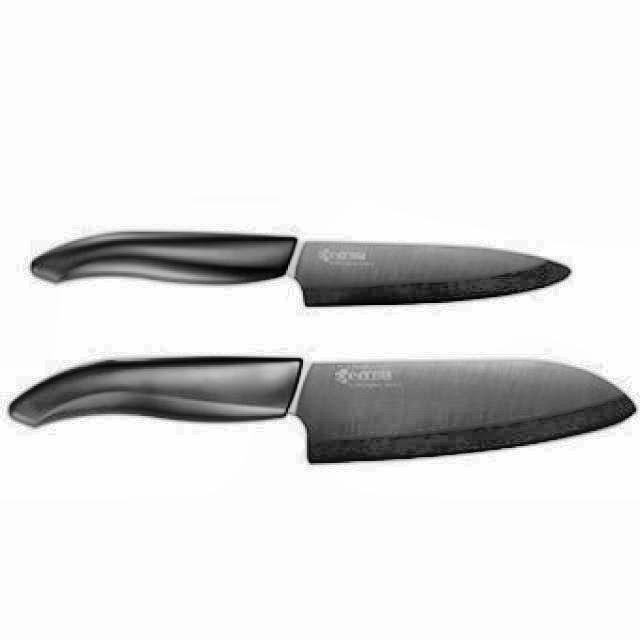knife: (8, 348, 640, 471), (28, 225, 576, 314)
